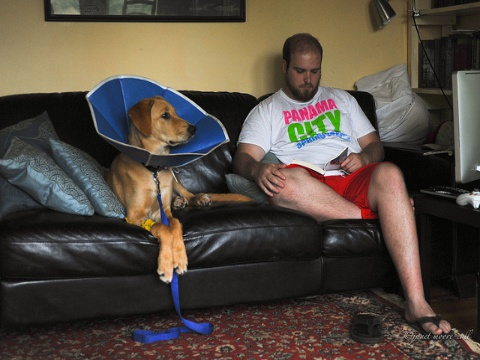hand: (256, 163, 288, 197)
